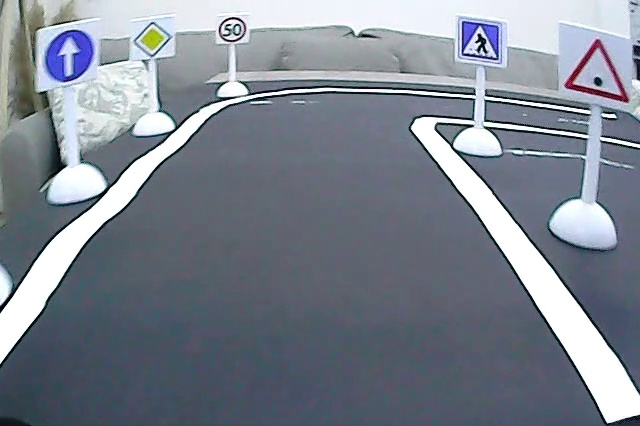green light: (558, 27, 632, 103)
pedestrian crossing: (459, 18, 504, 61)
speed limit 50: (218, 17, 247, 41)
